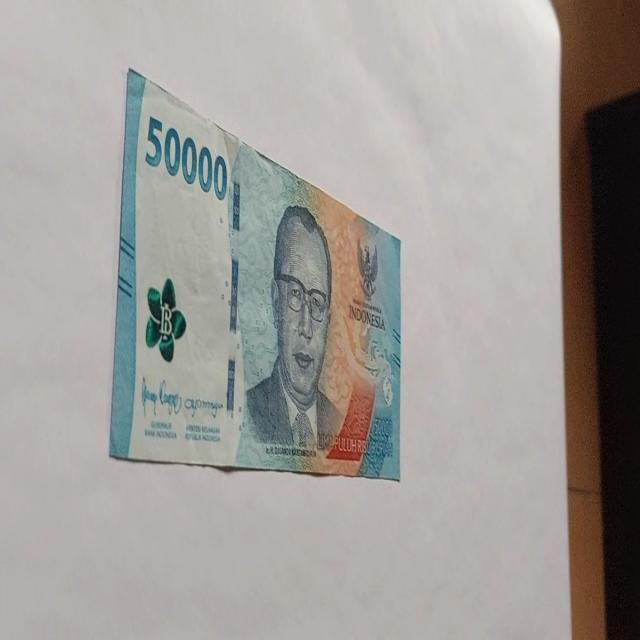lima puluh ribu rupiah: (108, 66, 403, 481), (242, 202, 346, 458), (143, 113, 229, 201)
